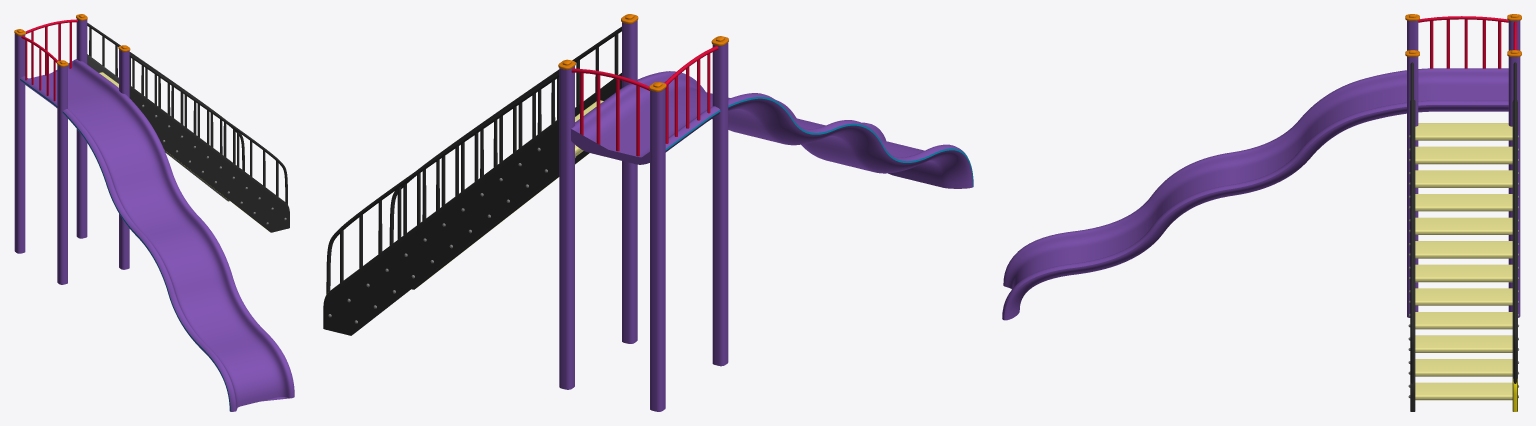
Rendered from Park Slide.fbx.
3 renders of one model, left to right at view 1: azimuth 30°, elevation 25°; view 2: azimuth 150°, elevation 25°; view 3: azimuth 270°, elevation 25°, orthographic. The views are drawn at different scales.
Parts seen in each view (by area): view 1: PERILO; view 2: PERILO; view 3: PERILO.
Boxes of the visible parts, x1,y1,x2,y2 form: PERILO: (14,14,294,411); PERILO: (323,14,973,411); PERILO: (1002,14,1521,411).
Bounding box in the file's own units: 1146 × 703 × 657.
